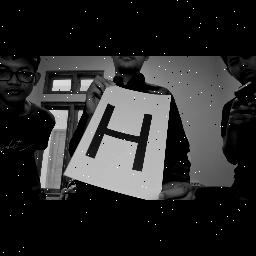h: (84, 100, 152, 178)
